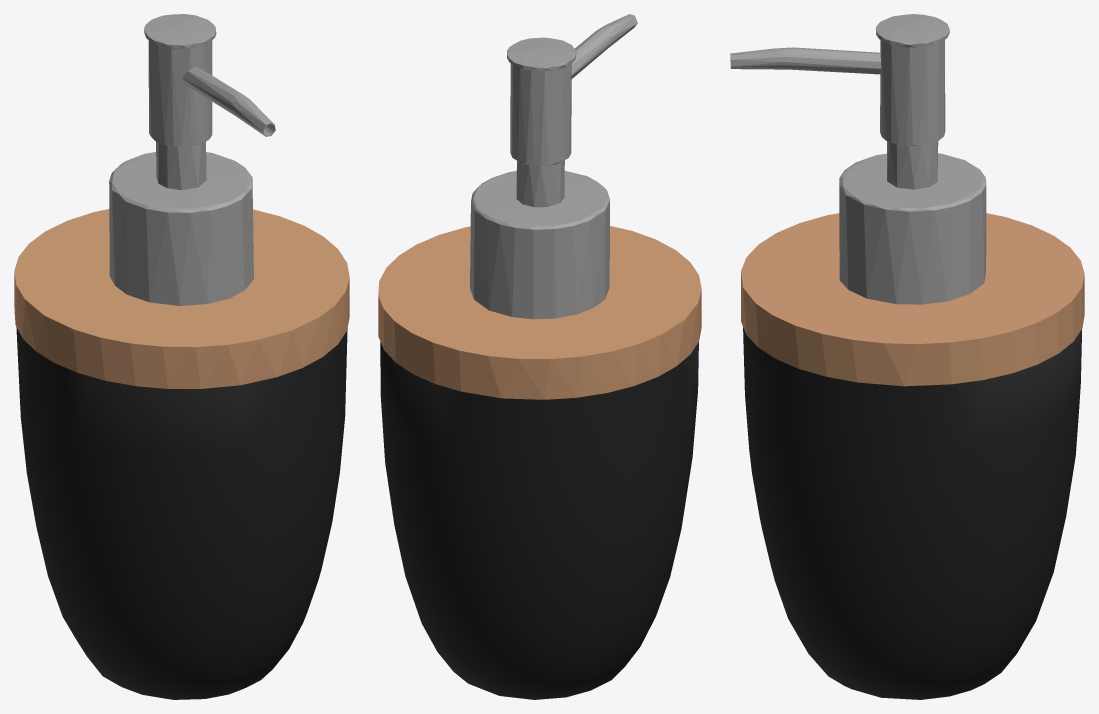
The model's file is milo.fbx.
The picture shows the model from 3 angles, left to right: view 1: azimuth 30°, elevation 25°; view 2: azimuth 150°, elevation 25°; view 3: azimuth 270°, elevation 25°; orthographic projection. The views are drawn at different scales.
Parts seen in each view (by area): view 1: milo; view 2: milo; view 3: milo.
Part boxes in pixels (x1=…): milo: x1=14, y1=14, x2=349, y2=699; milo: x1=378, y1=14, x2=701, y2=699; milo: x1=730, y1=14, x2=1084, y2=699.
Size of the model in its own units: 6.75 by 14.43 by 7.19.
